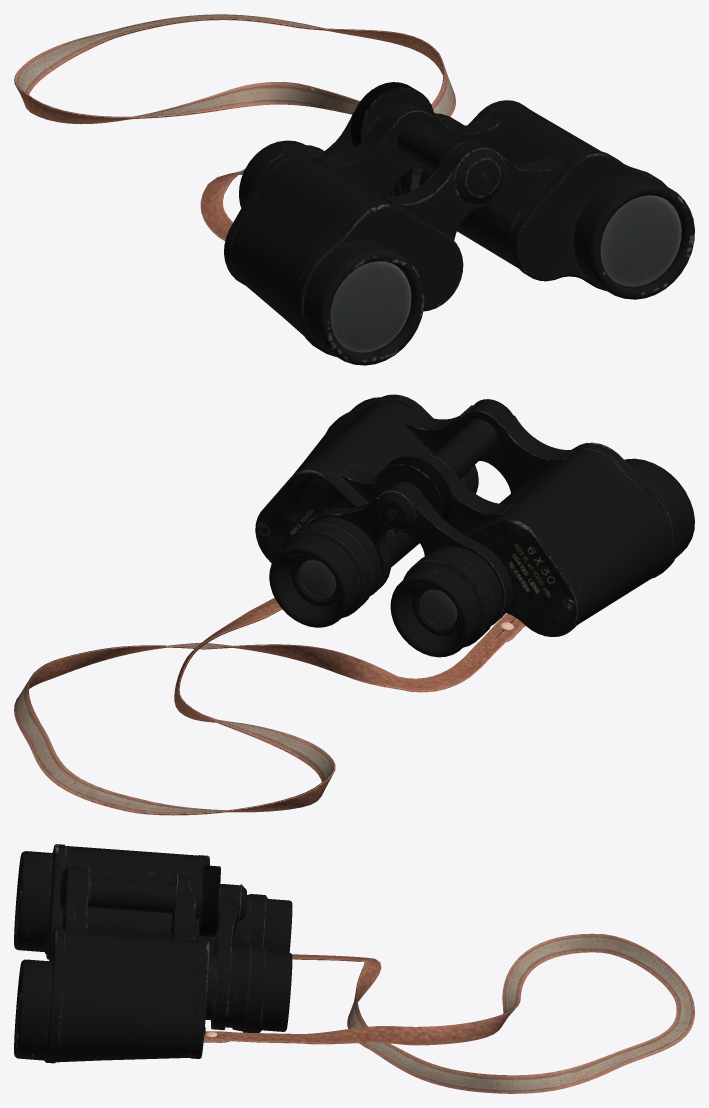
File: binoculars.glb
3 renders of one model, top to bottom at view 1: azimuth 30°, elevation 25°; view 2: azimuth 150°, elevation 25°; view 3: azimuth 270°, elevation 25°, orthographic. The views are drawn at different scales.
Parts seen in each view (by area): view 1: binoculars_left, binoculars_strap; view 2: binoculars_left, binoculars_strap; view 3: binoculars_left, binoculars_strap.
Boxes of the visible parts, x1,y1,x2,y2 form: binoculars_left: (224,82,694,365); binoculars_strap: (14,14,455,240); binoculars_left: (255,394,694,657); binoculars_strap: (14,597,525,815); binoculars_left: (14,844,292,1063); binoculars_strap: (203,933,694,1093).
Size of the model in its own units: 0.1669 by 0.0663 by 0.2879.
2 materials, 2 textured.
